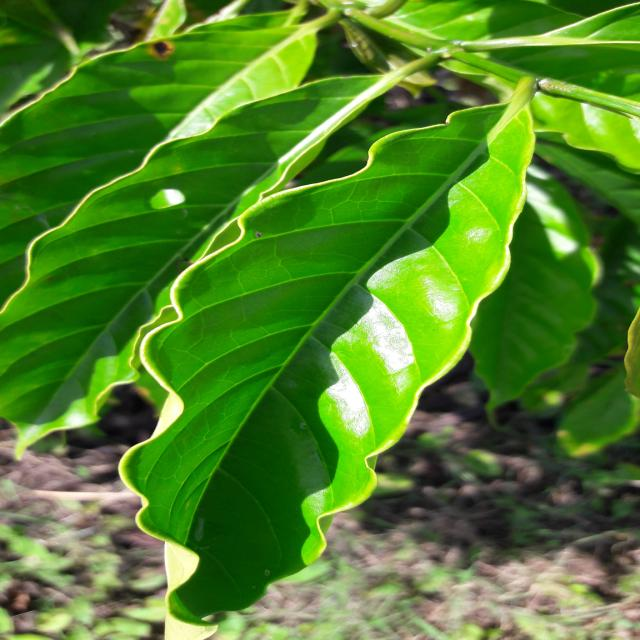Sanas: (118, 79, 536, 627)
